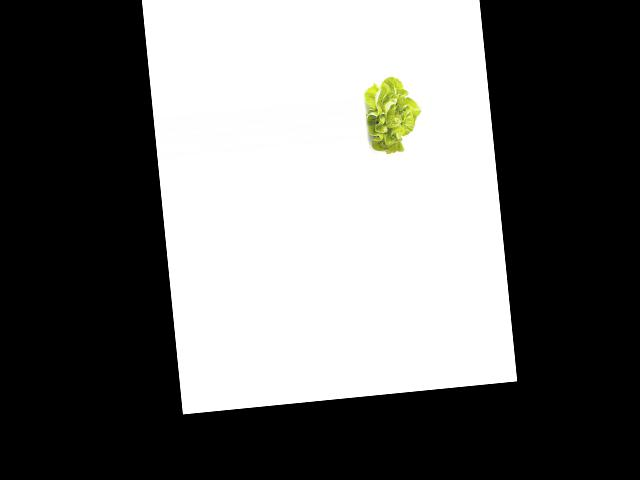lettuce: (361, 71, 424, 157)
